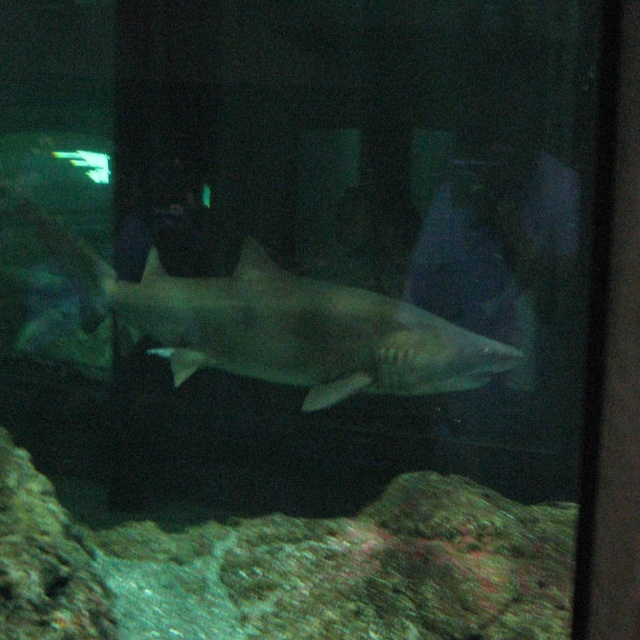Shark: (44, 229, 531, 435)
